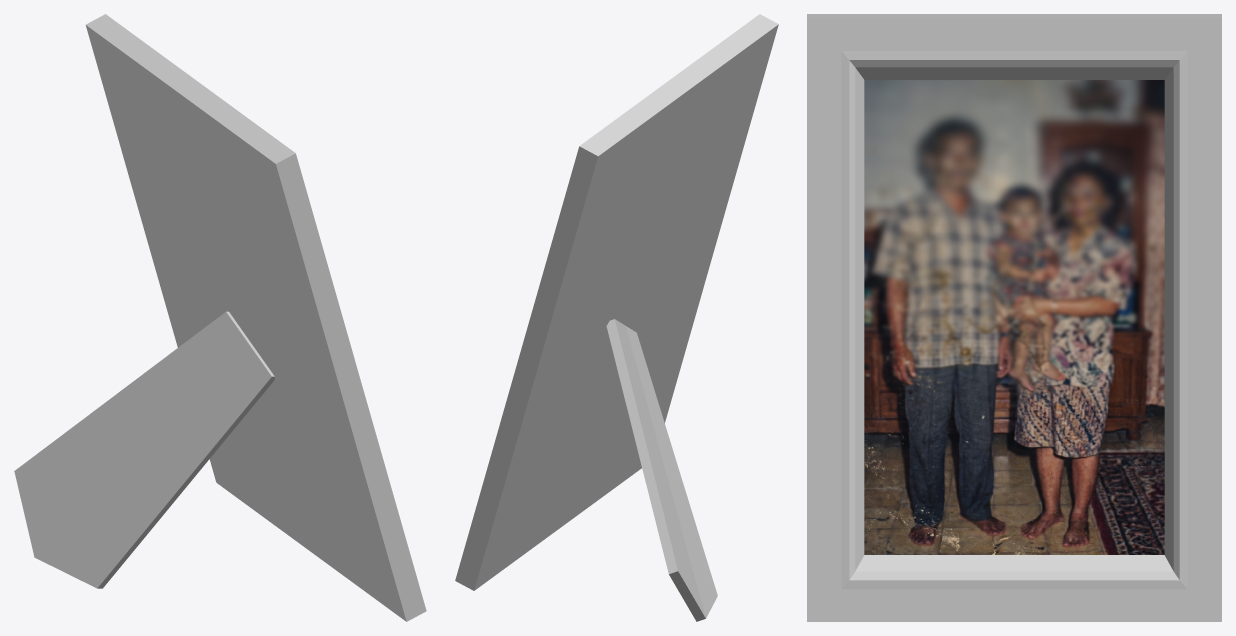
File: Foto Figura.fbx
The picture shows the model from 3 angles, left to right: view 1: azimuth 30°, elevation 25°; view 2: azimuth 150°, elevation 25°; view 3: azimuth 270°, elevation 25°; orthographic projection. The views are drawn at different scales.
Visible parts, largest first — view 1: Figura; view 2: Figura; view 3: foto, Figura.
Part boxes in pixels (box(x1,y1,x2,y2)): Figura: box(14, 14, 426, 621); Figura: box(455, 14, 778, 621); foto: box(864, 80, 1164, 554); Figura: box(807, 14, 1221, 621).
Size of the model in its own units: 0.1976 by 0.4122 by 0.2794.
Materials: 1 (1 with a texture image).
